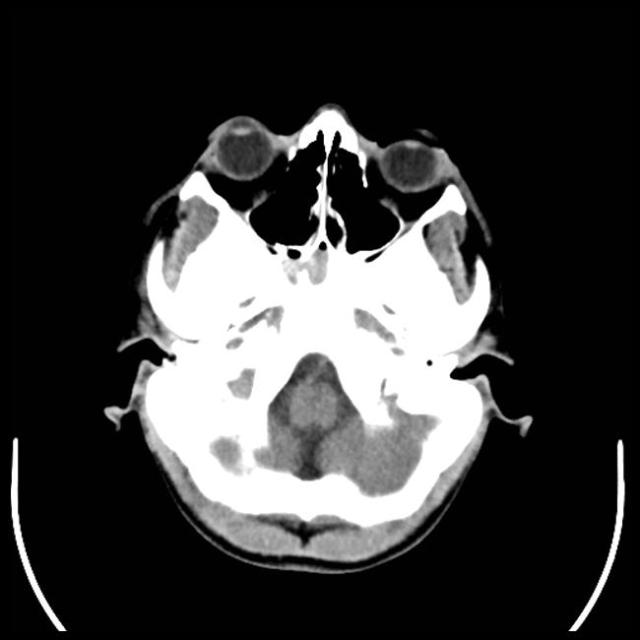lesion: (102, 99, 536, 575)
